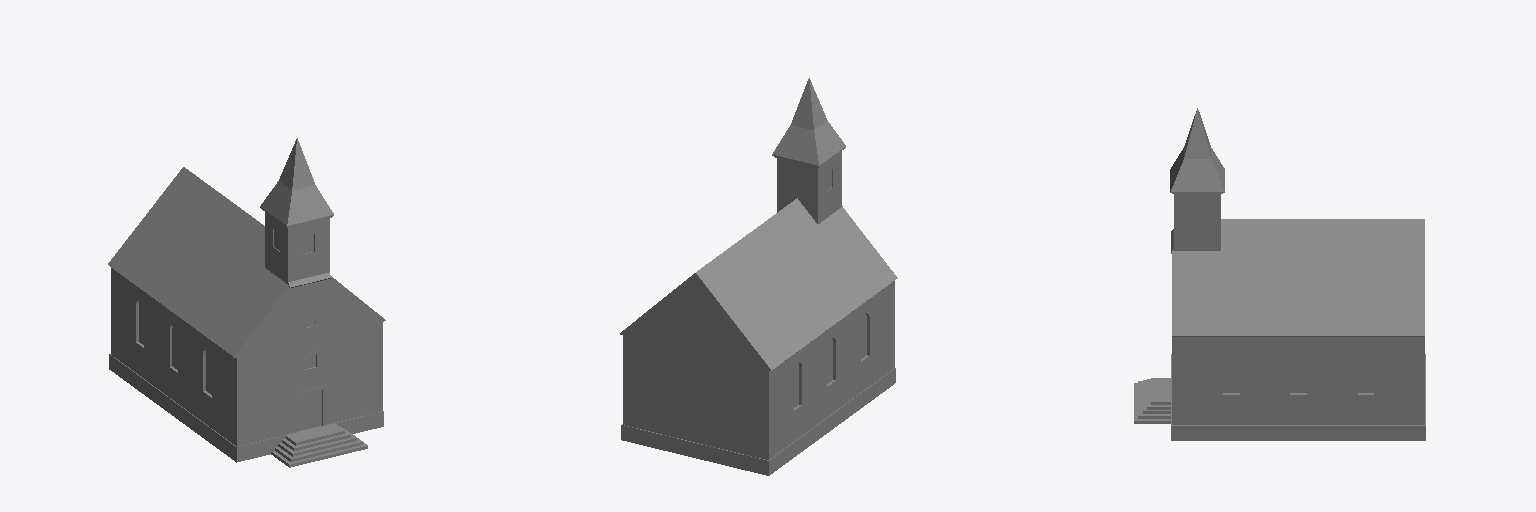
The model's file is textureChurch.obj.
The picture shows the model from 3 angles: view 1: azimuth 30°, elevation 25°; view 2: azimuth 150°, elevation 25°; view 3: azimuth 270°, elevation 25°; orthographic projection.
Visible parts, largest first — view 1: Kirche_001; view 2: Kirche_001; view 3: Kirche_001.
Boxes of the visible parts, x1=… form: Kirche_001: x1=108, y1=138, x2=385, y2=467; Kirche_001: x1=620, y1=78, x2=897, y2=475; Kirche_001: x1=1134, y1=108, x2=1425, y2=440.
Bounding box in the file's own units: 104 × 195 × 173.